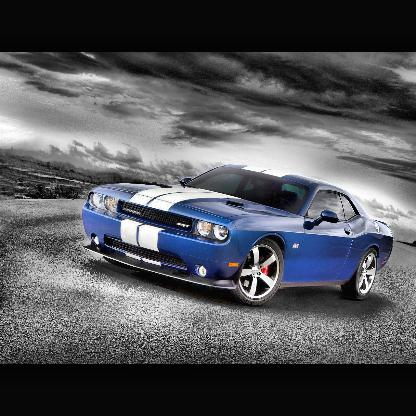Dodge Challenger SRT8 2011: (81, 164, 395, 309)
